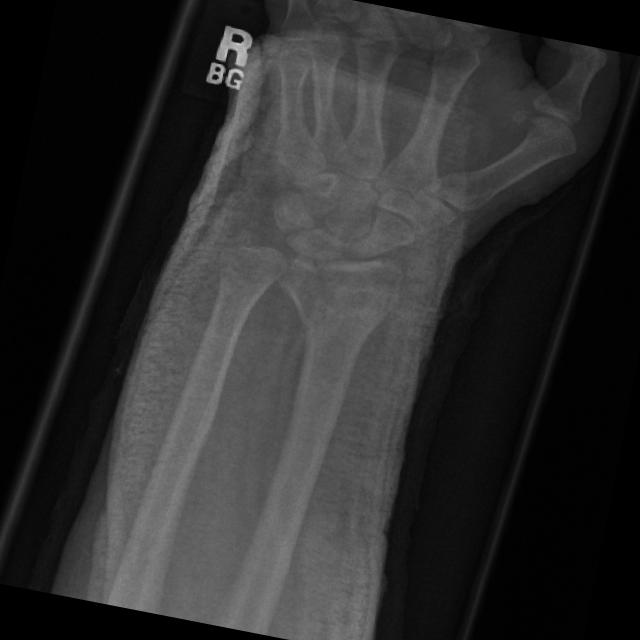fingers positive: (265, 240, 367, 352)
